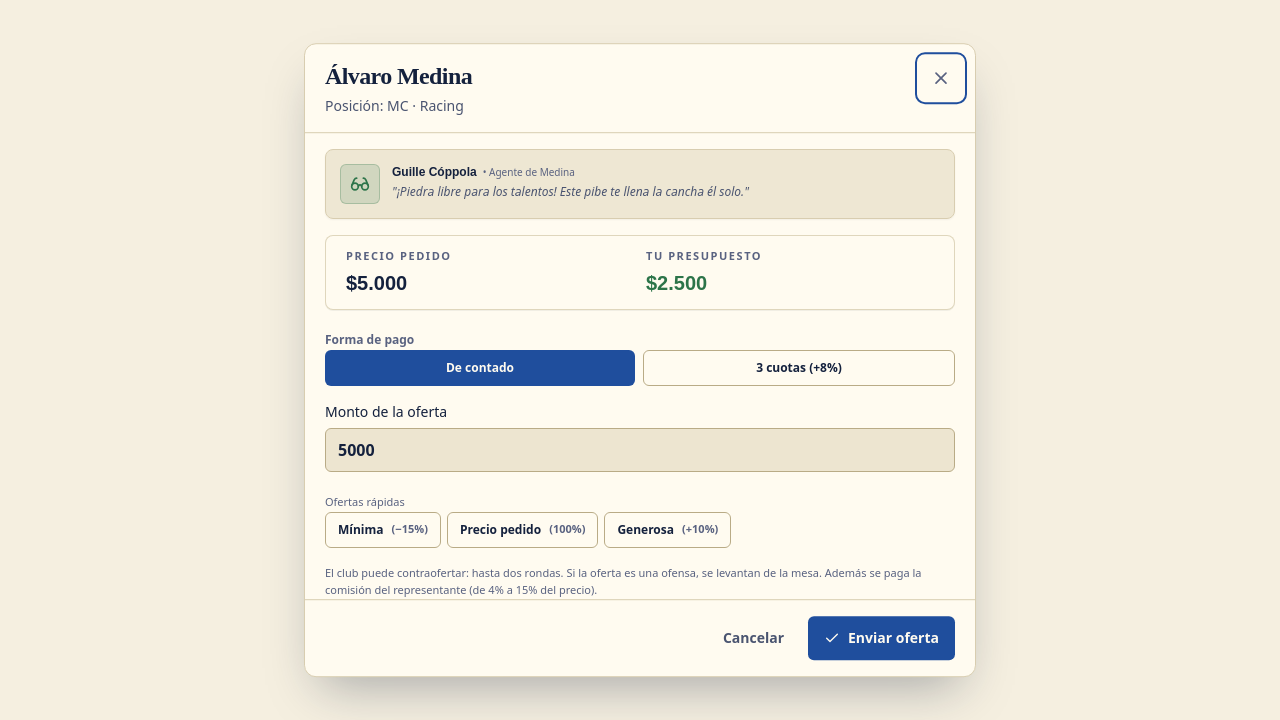
Test case: negociación del fichaje › de contado no se puede ofertar más de lo que hay en la caja
Click the button "Enviar oferta" at (882, 638), box [808,616,955,660]
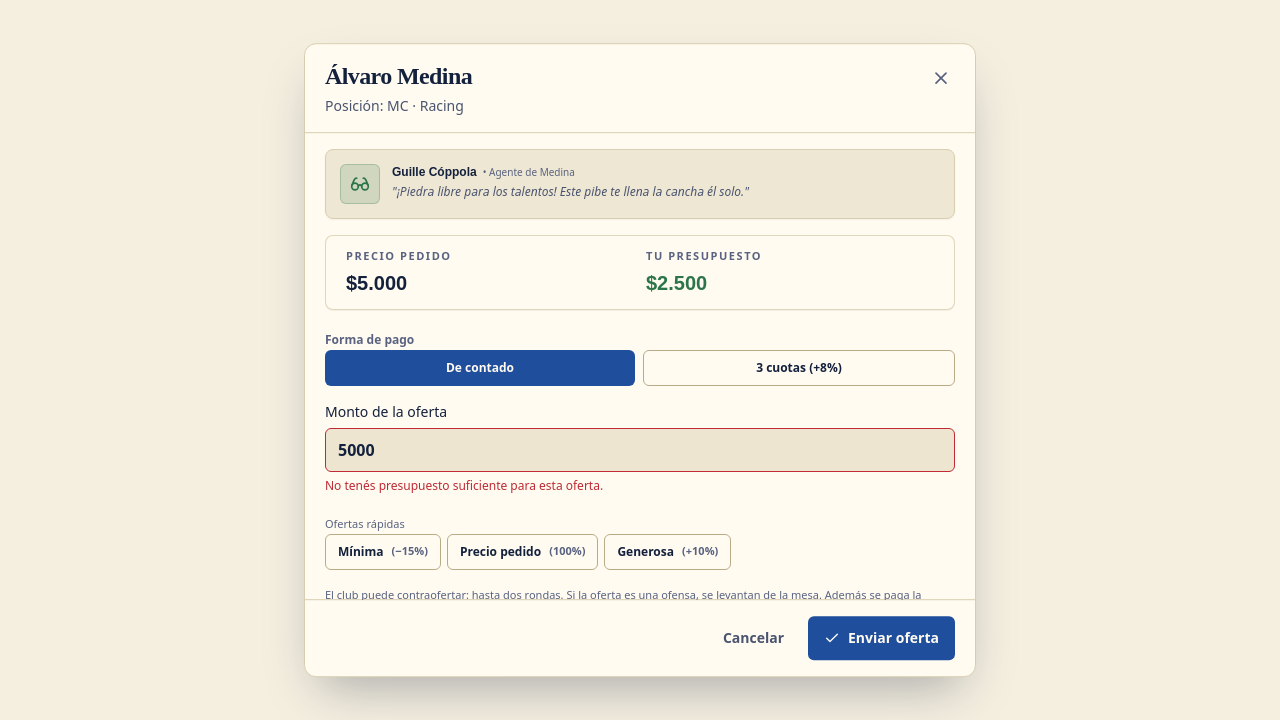
Now the message shows "presupuesto suficiente", box [325,477,603,494]
